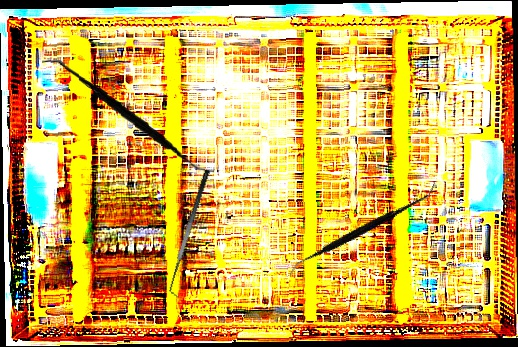Spatula Surgical: (288, 141, 437, 316), (34, 58, 222, 175), (162, 168, 221, 299)
